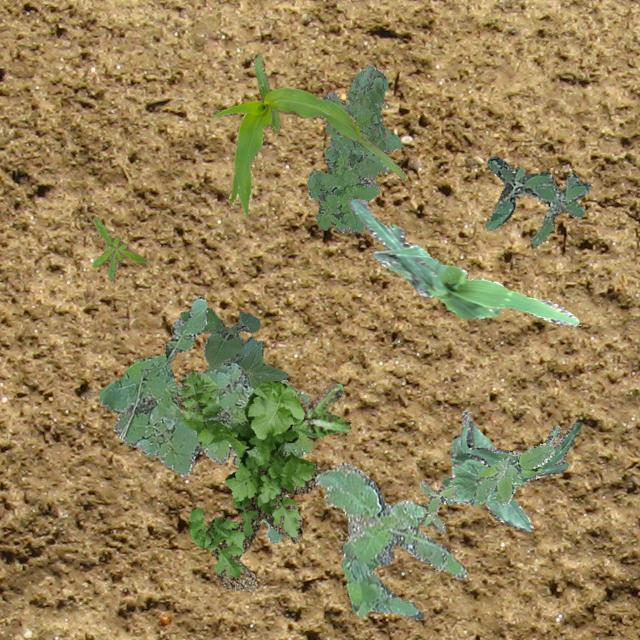crop: (210, 54, 407, 215), (348, 198, 578, 324), (460, 409, 580, 498), (437, 422, 532, 530)
weed: (98, 294, 312, 542), (176, 370, 322, 590), (314, 462, 466, 620), (306, 64, 402, 232), (484, 156, 590, 246), (180, 306, 288, 388), (469, 442, 554, 504), (280, 378, 350, 436), (91, 216, 146, 280), (416, 479, 456, 532)
